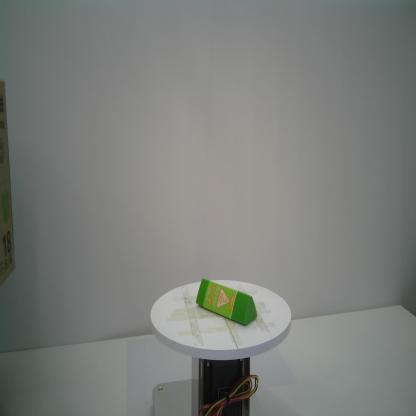Stationery: (194, 276, 259, 328)
